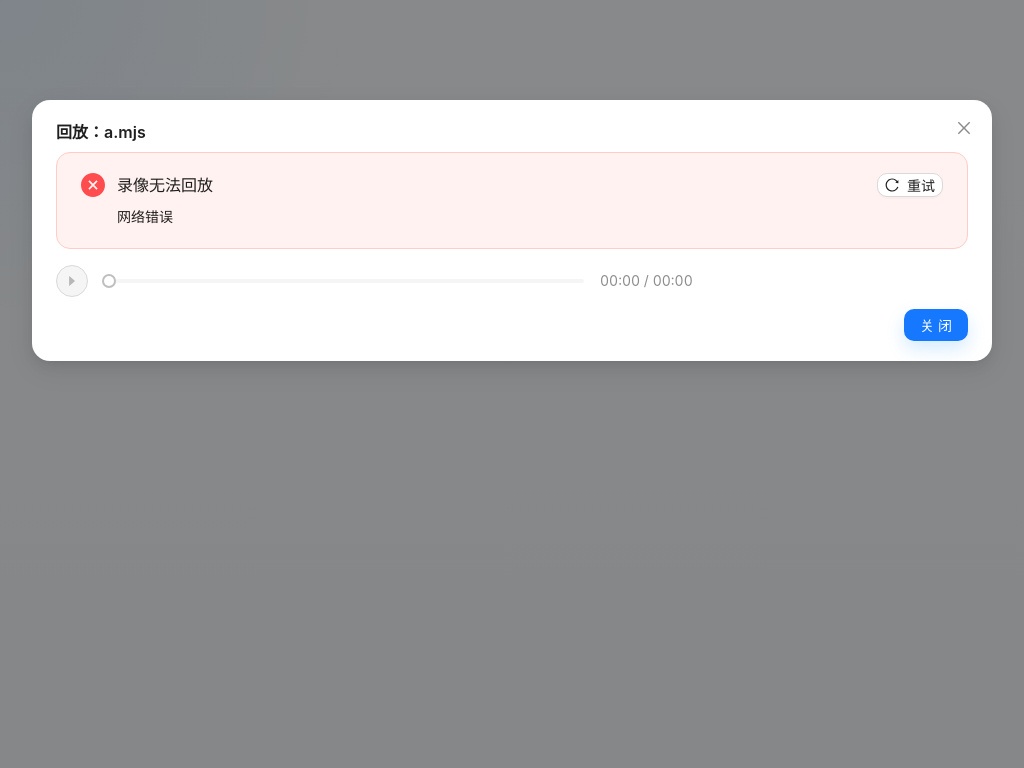
Scenario: RemoteRecordingPlayer › load 失败显示错误与重试；重试重新走 load → 新播放器
Expected: the text "录像无法回放" is shown, x1=117 y1=175 x2=213 y2=195
Expected: the text "网络错误" is shown, x1=117 y1=208 x2=173 y2=225
Click the button "重试" at (910, 185), box x1=877 y1=173 x2=943 y2=197
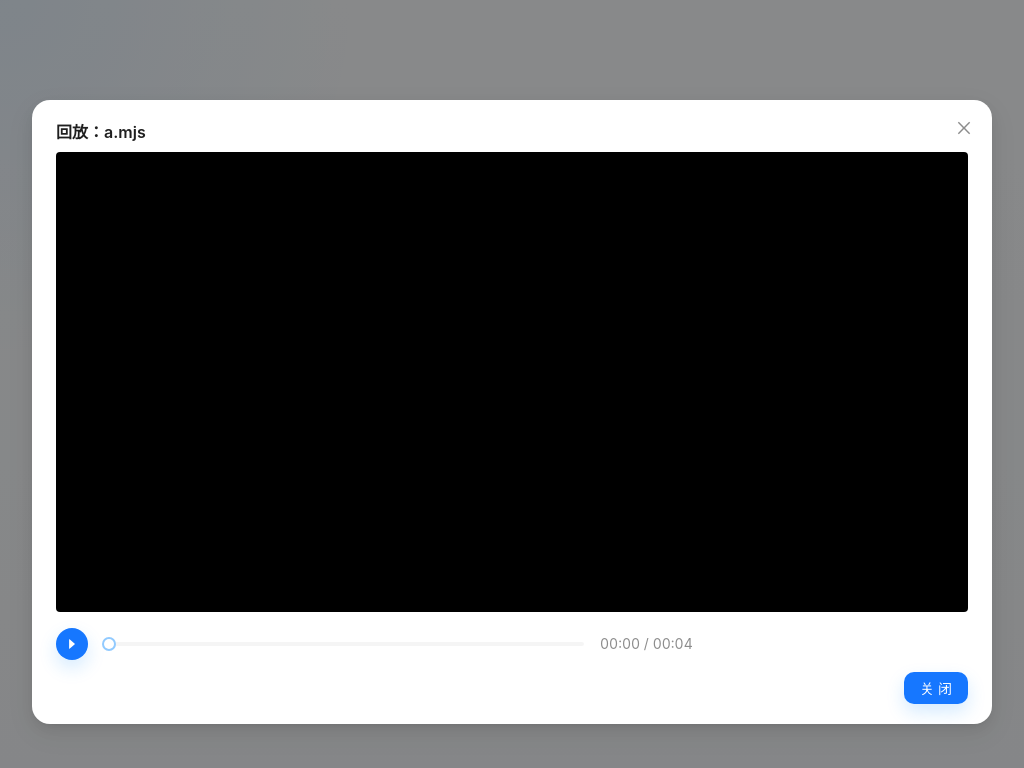
Result: the text "00:00 / 00:04" is shown at x1=600 y1=635 x2=693 y2=652
